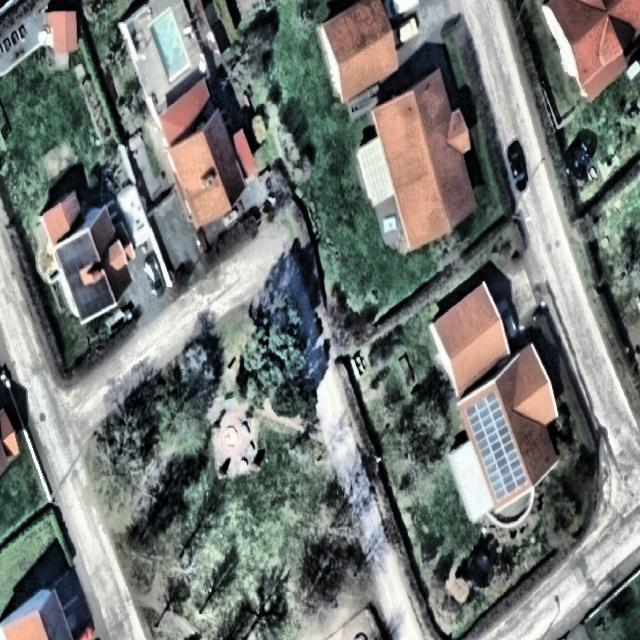roof_pv: (474, 446, 532, 502), (463, 393, 518, 444), (62, 277, 115, 324), (58, 235, 100, 267), (61, 268, 84, 278)
